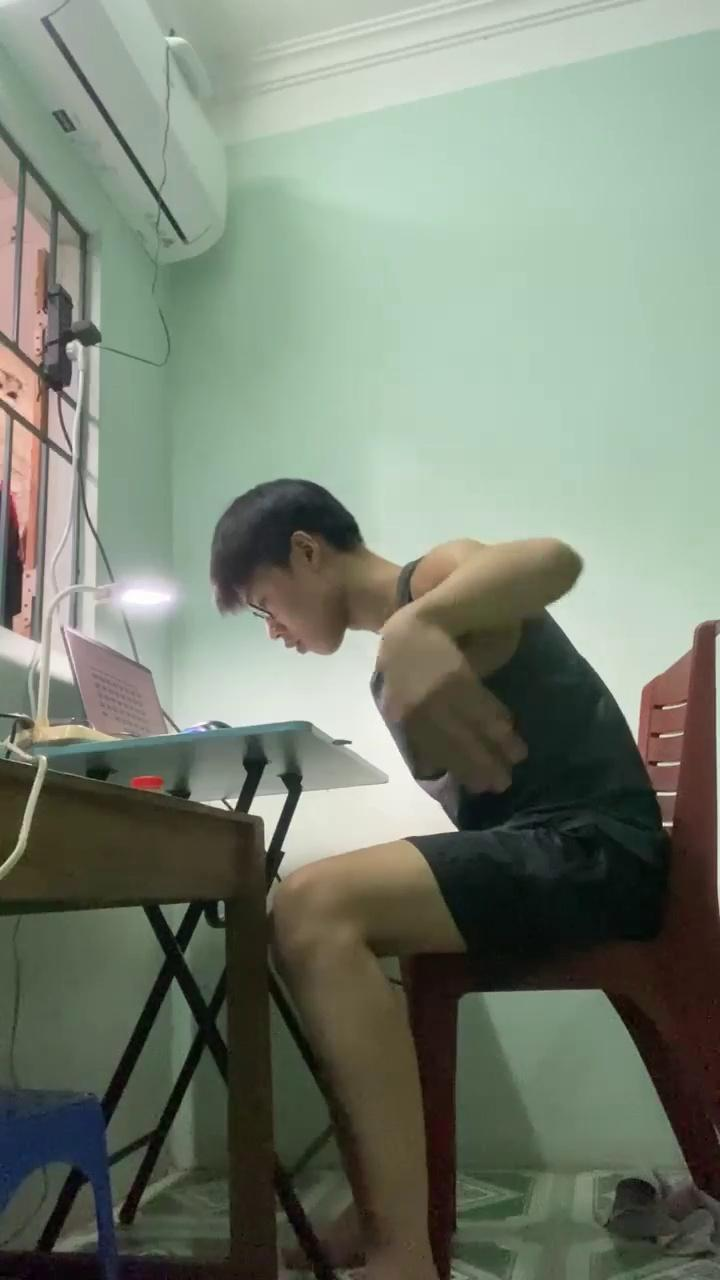BadPosture: (209, 478, 669, 1279)
